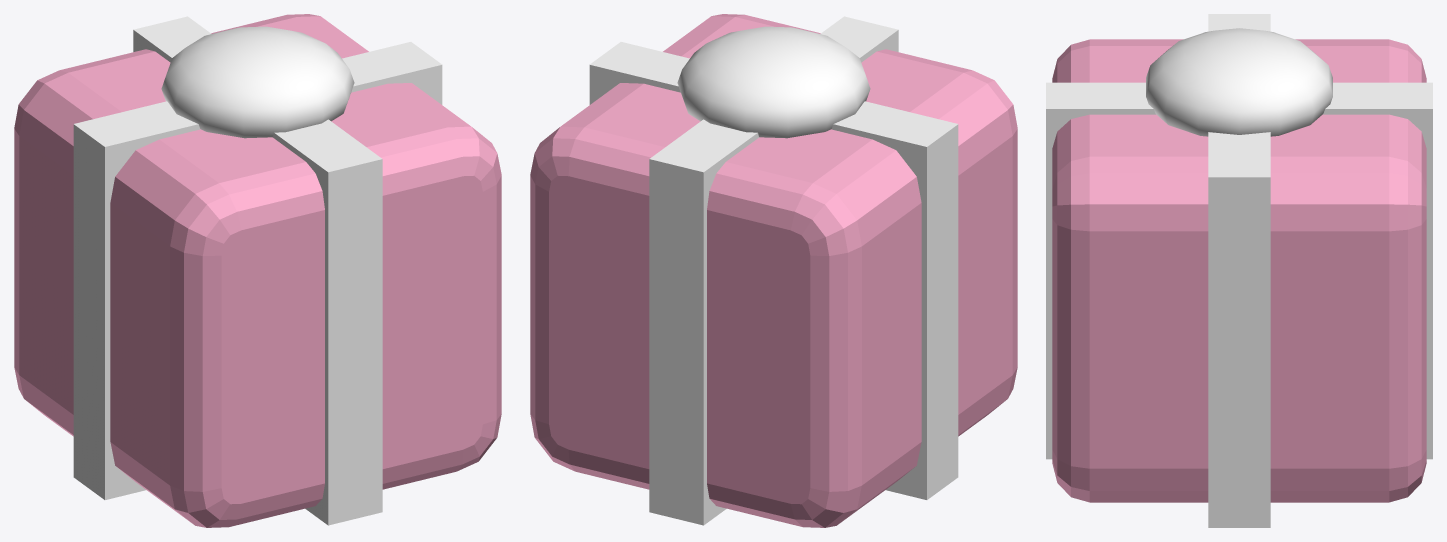
The model's file is box_mystery.glb.
3 views of the same model, side by side, from view 1: azimuth 30°, elevation 25°; view 2: azimuth 150°, elevation 25°; view 3: azimuth 270°, elevation 25° (orthographic).
Visible parts, largest first — view 1: box_mystery; view 2: box_mystery; view 3: box_mystery.
Part boxes in pixels (bbox=[...]): box_mystery: bbox=[14, 14, 501, 527]; box_mystery: bbox=[530, 14, 1017, 527]; box_mystery: bbox=[1046, 14, 1432, 527].
Bounding box in the file's own units: 1.24 × 1.42 × 1.24.
